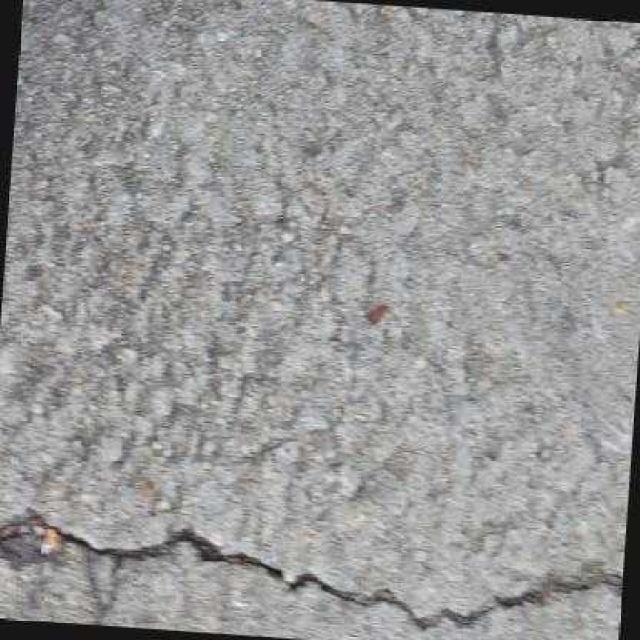D00: (0, 522, 623, 627)
